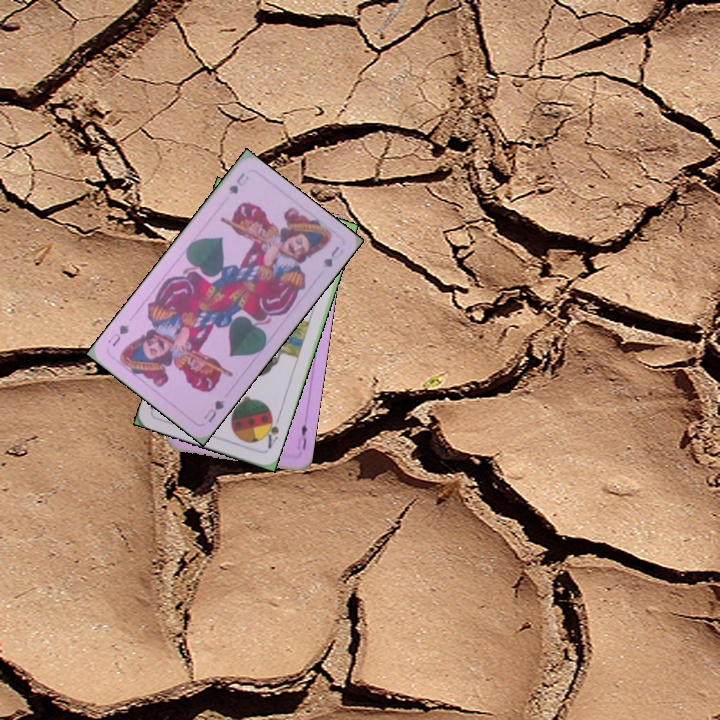EU: (297, 420, 310, 452)
GU: (200, 396, 227, 425), (225, 169, 252, 197)
SA: (260, 411, 282, 451)
